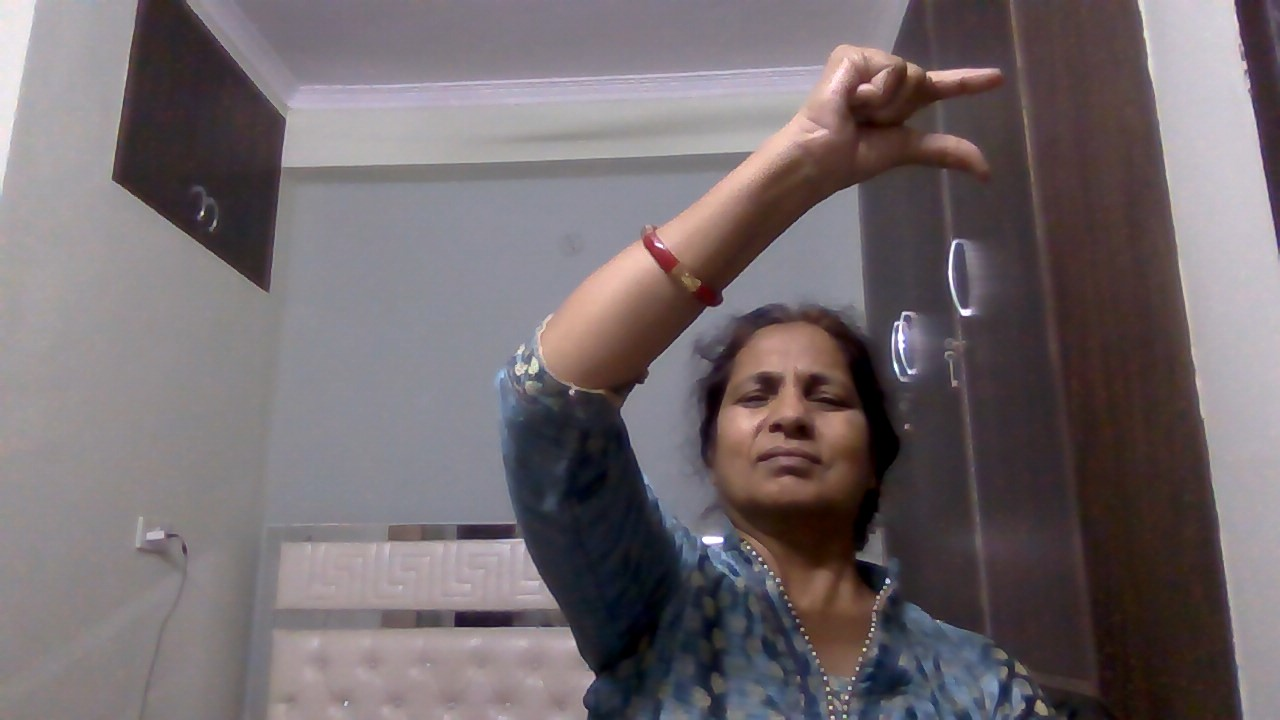Paste: (782, 41, 1012, 214)
